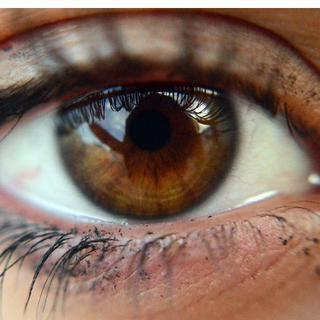iris: (58, 36, 242, 220)
